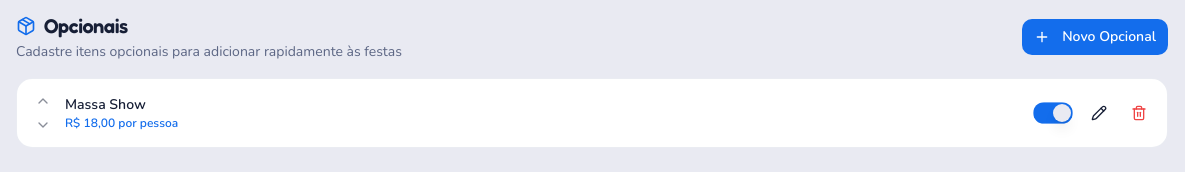
Scenario: OptionalsManager › pausar não apaga, só marca como inativo
The image size is (1185, 172).
Check: the text "Massa Show" is shown, box [65,95,146,115]
Click the switch named "Pausar opcional".
click(1053, 113)  # box [1033,102,1073,124]
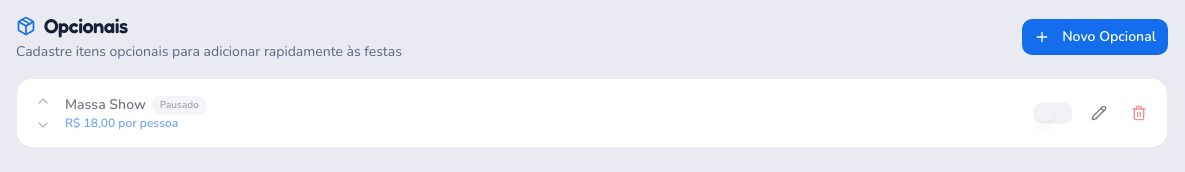
Check: the text "Pausado" is shown, box [152,96,207,114]
